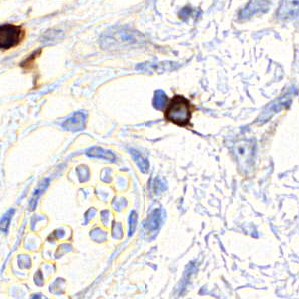Lymphocyte: (162, 93, 196, 126)
